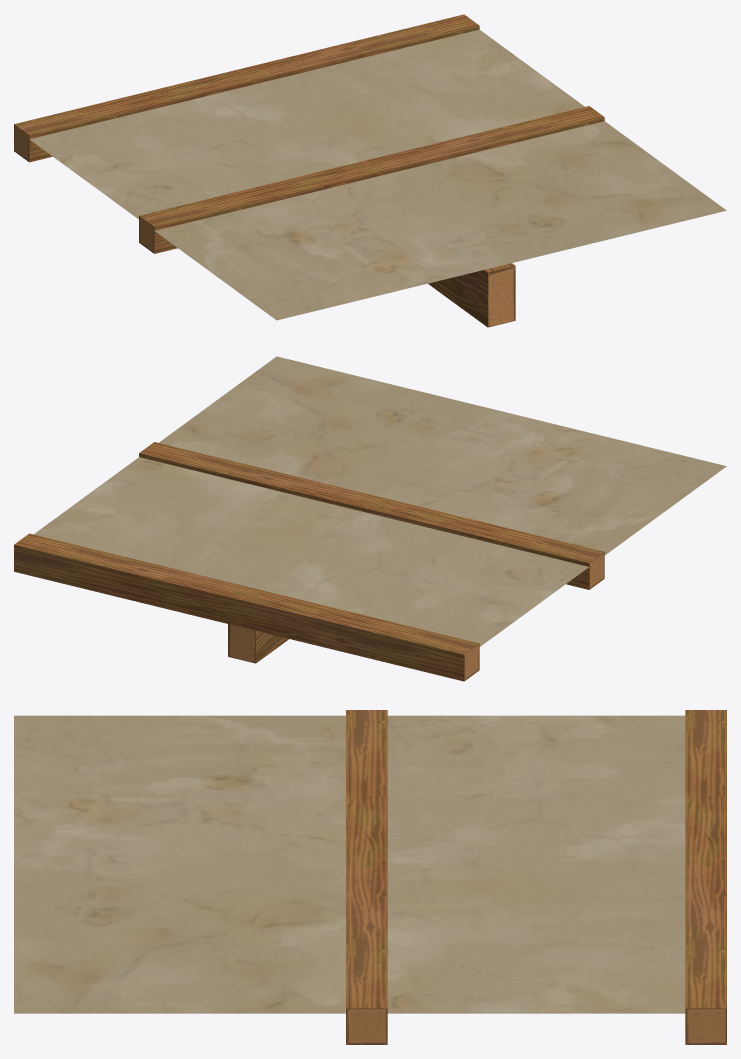
File: Overhang_Roof_Plaster.gltf
3 renders of one model, top to bottom at view 1: azimuth 30°, elevation 25°; view 2: azimuth 150°, elevation 25°; view 3: azimuth 270°, elevation 25°, orthographic. The views are drawn at different scales.
Parts seen in each view (by area): view 1: Overhang_Roof_Plaster; view 2: Overhang_Roof_Plaster; view 3: Overhang_Roof_Plaster.
Part boxes in pixels (left/top/right/bottom): Overhang_Roof_Plaster: left=14, top=14, right=726, bottom=327; Overhang_Roof_Plaster: left=14, top=356, right=726, bottom=681; Overhang_Roof_Plaster: left=14, top=710, right=726, bottom=1044.
Bounding box in the file's own units: 2 × 0.2659 × 2.02.
Materials: 2 (2 with a texture image).
